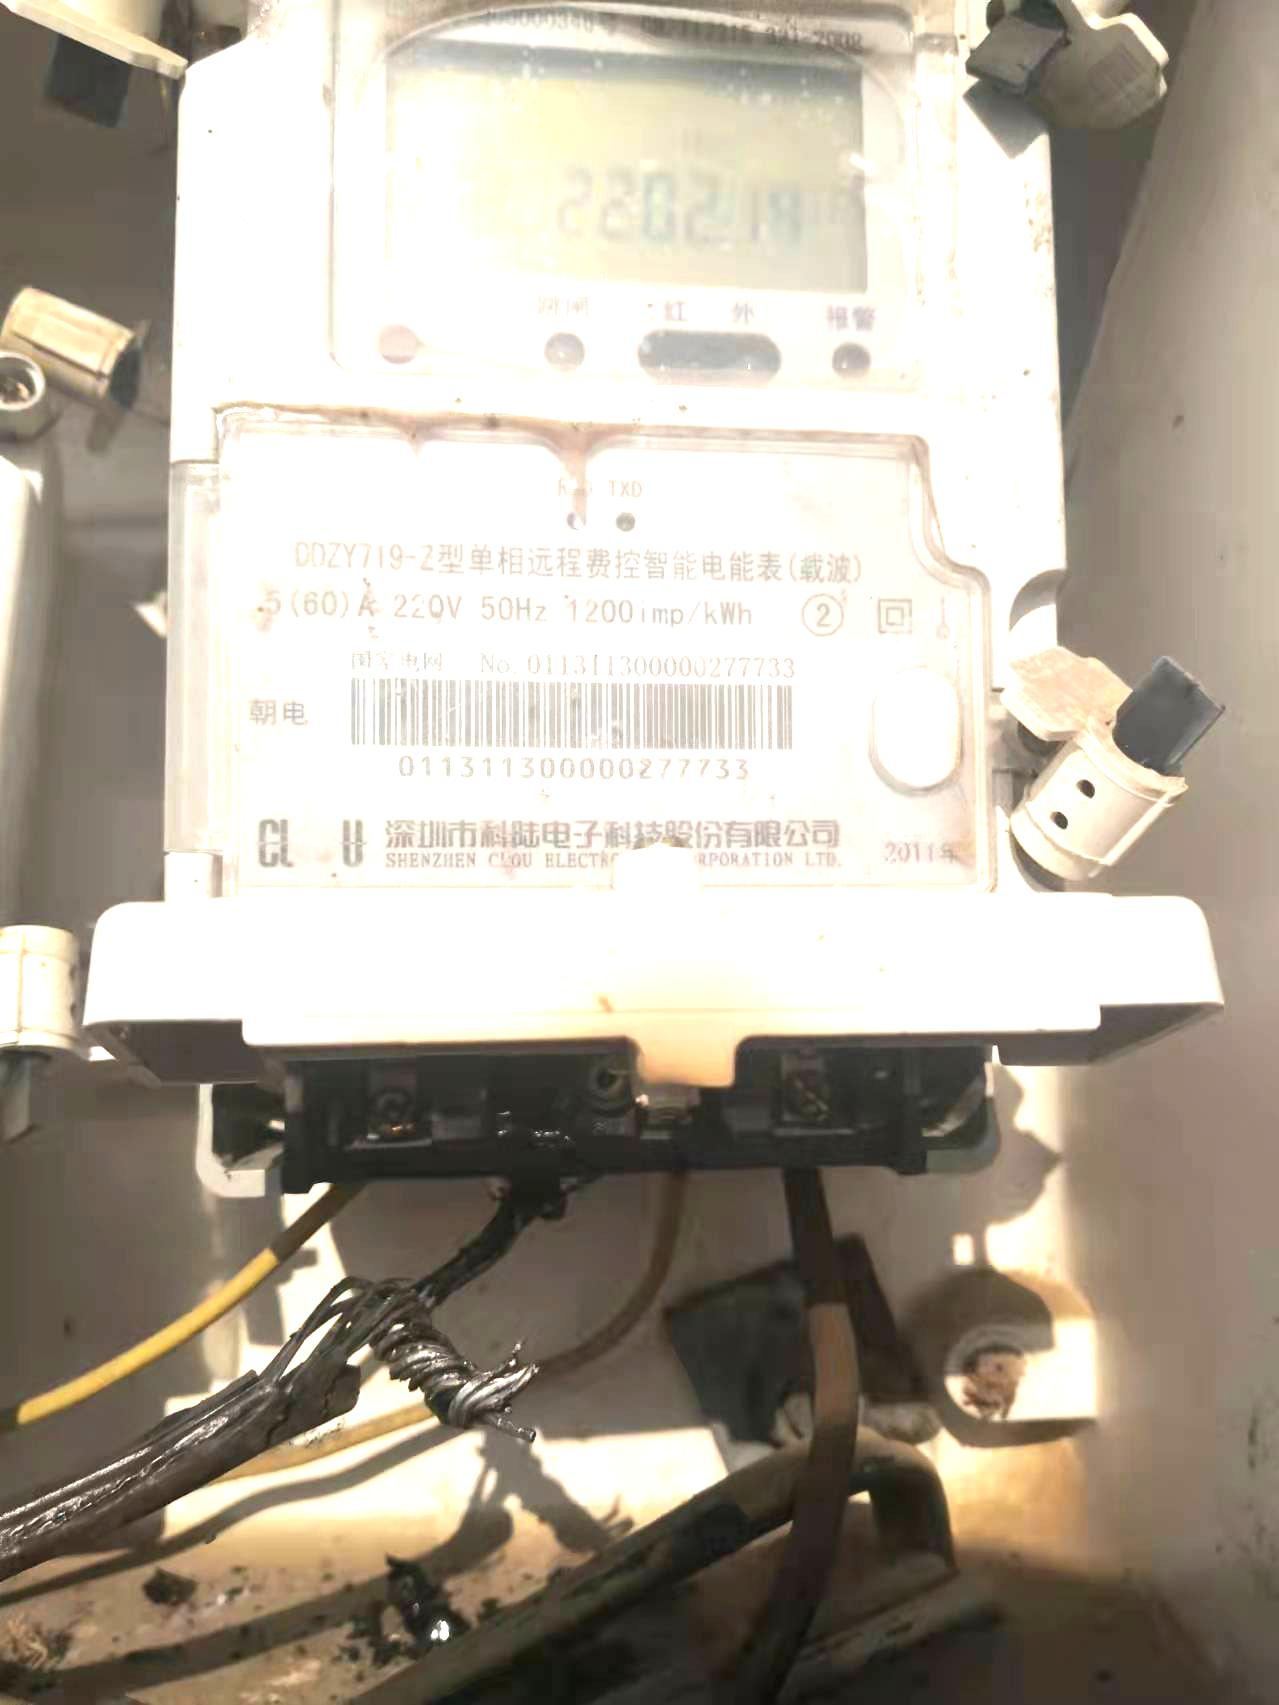digital: (161, 1, 1076, 899)
